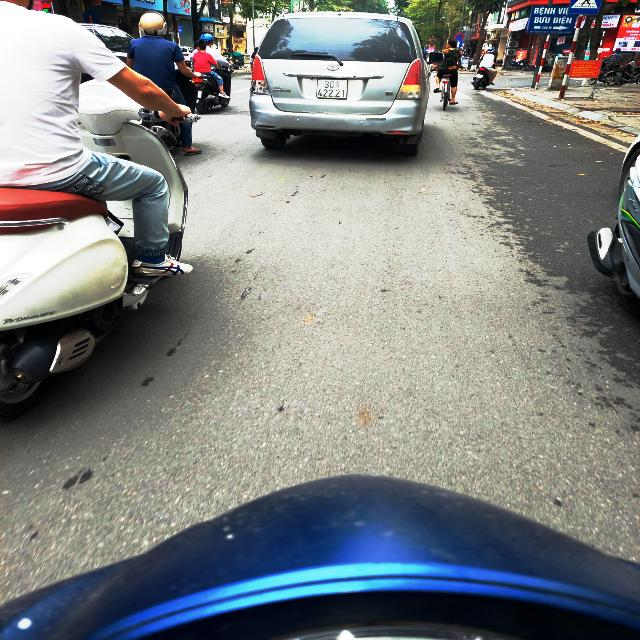license_plate: (316, 79, 351, 101)
